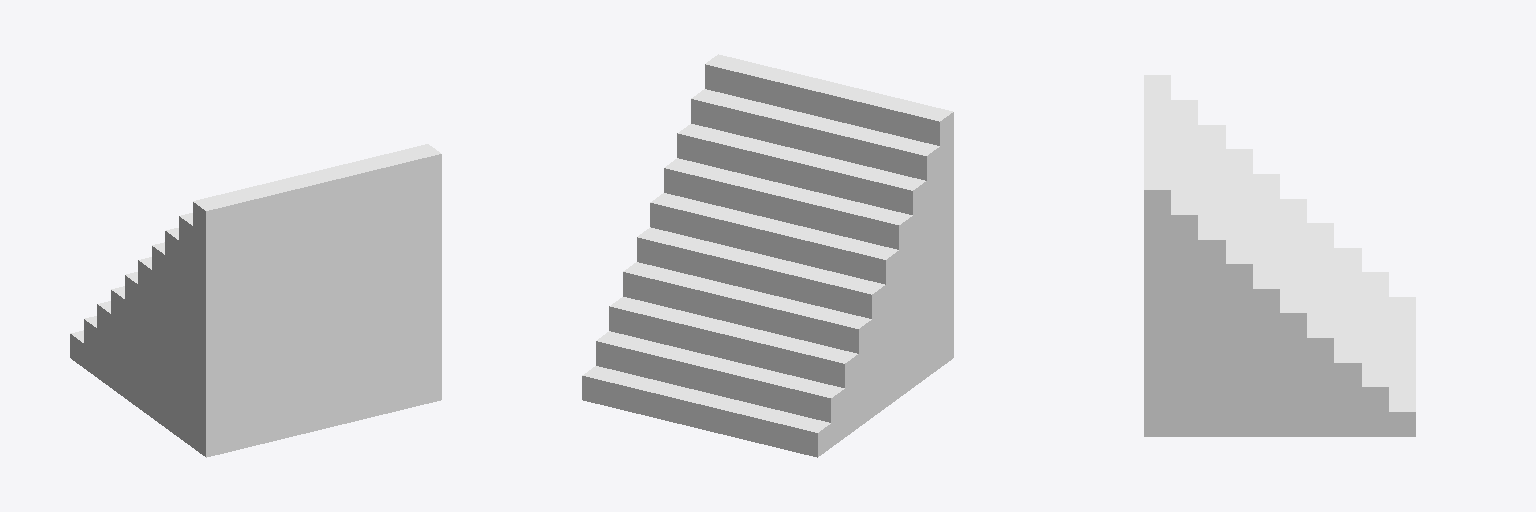
Rendered from Stairs.obj.
3 renders of one model, left to right at view 1: azimuth 30°, elevation 25°; view 2: azimuth 150°, elevation 25°; view 3: azimuth 270°, elevation 25°, orthographic.
Parts seen in each view (by area): view 1: Stairs; view 2: Stairs; view 3: Stairs.
Boxes of the visible parts, x1=… form: Stairs: x1=70, y1=144, x2=441, y2=457; Stairs: x1=582, y1=54, x2=953, y2=457; Stairs: x1=1144, y1=75, x2=1415, y2=436.
Bounding box in the file's own units: 3 × 3 × 3.